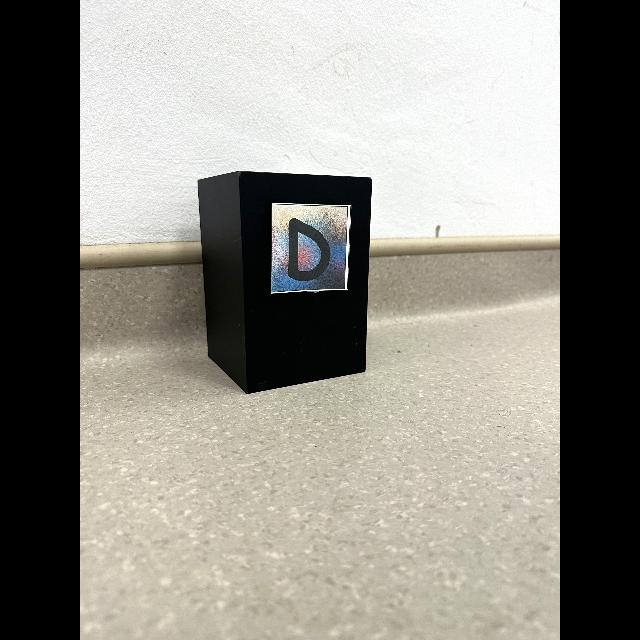D: (288, 218, 330, 281)
